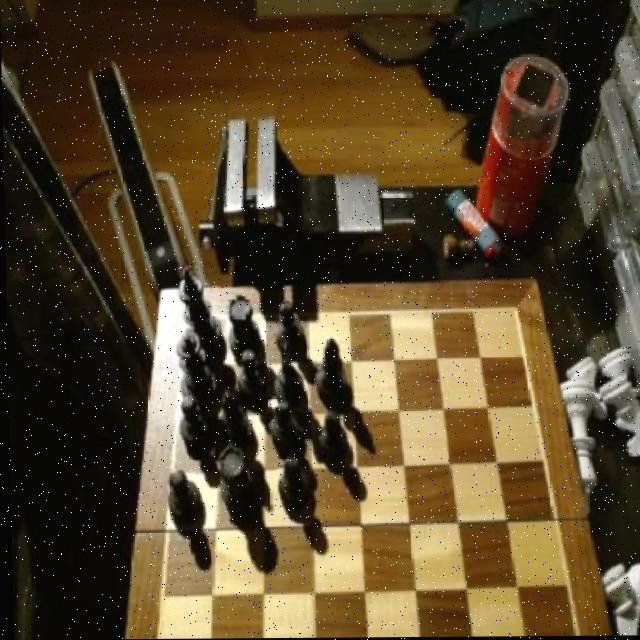bishop: (311, 337, 347, 410), (215, 389, 248, 453)
black-bishop: (176, 263, 220, 360)
black-king: (269, 342, 301, 409)
black-knight: (163, 470, 200, 526), (266, 401, 302, 457), (173, 394, 207, 451), (269, 301, 303, 354), (313, 410, 347, 462), (234, 351, 264, 405), (273, 460, 302, 510)
black-pawn: (173, 329, 218, 407)
black-queen: (212, 443, 252, 519), (222, 296, 256, 360)
